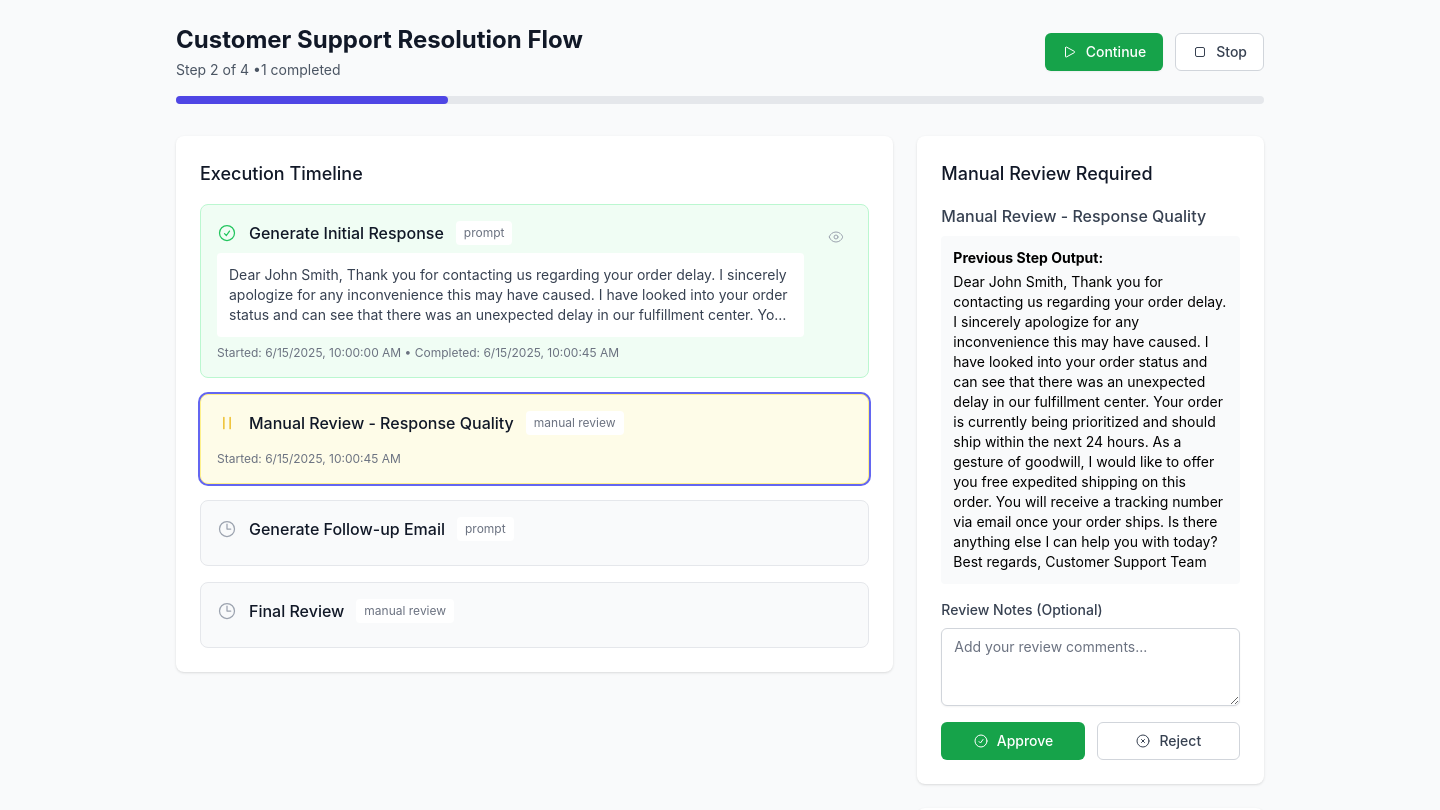
Test: PlaybookRunner › should handle pause execution
The image size is (1440, 810).
# First start execution
What coordinates should you click on to do the following:
click the button "Continue"
I would click on:
 (1104, 52)
Its box is [1045,33,1163,71].
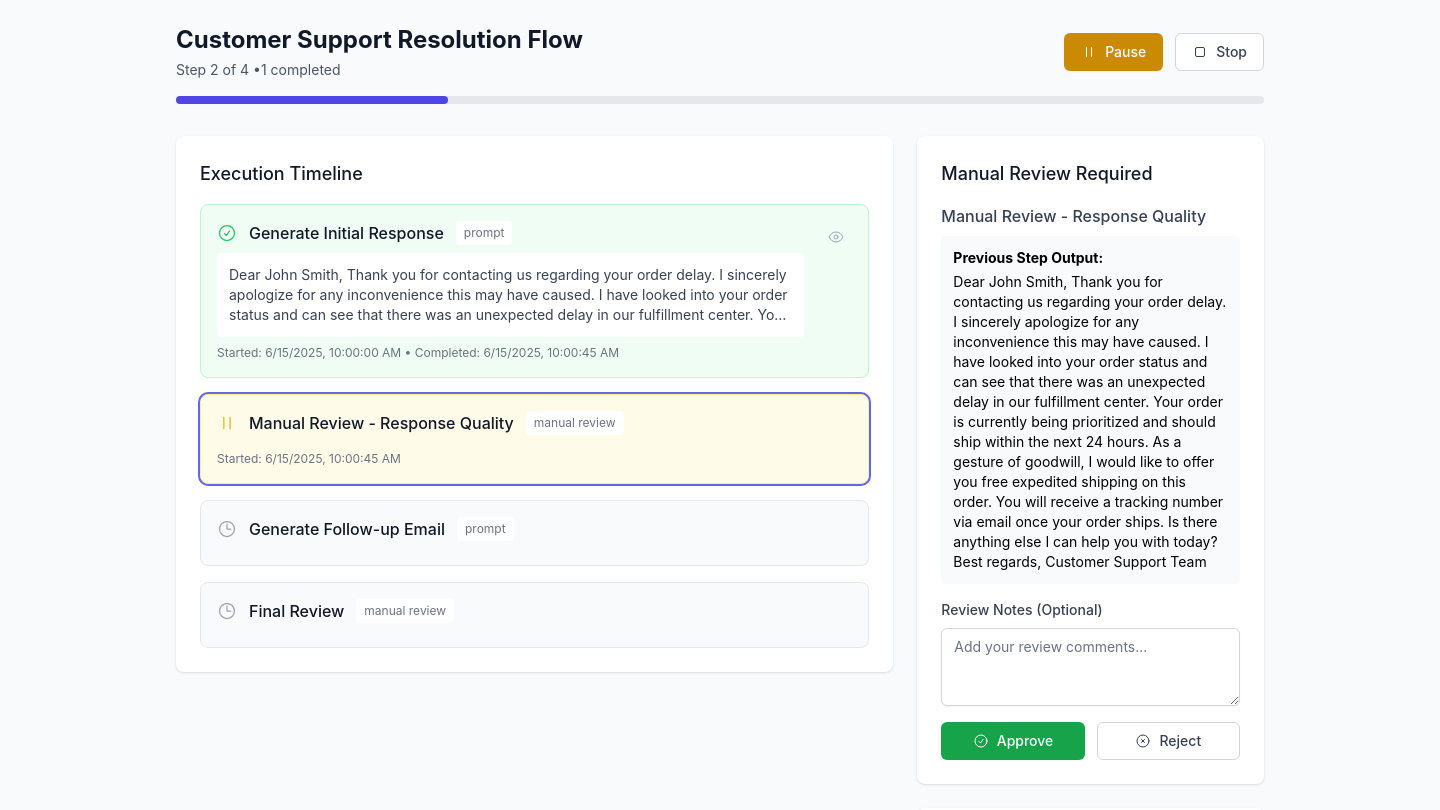
What coordinates should you click on to do the following:
click the button "Pause"
I would click on:
 (1114, 52)
Its box is [1064,33,1163,71].
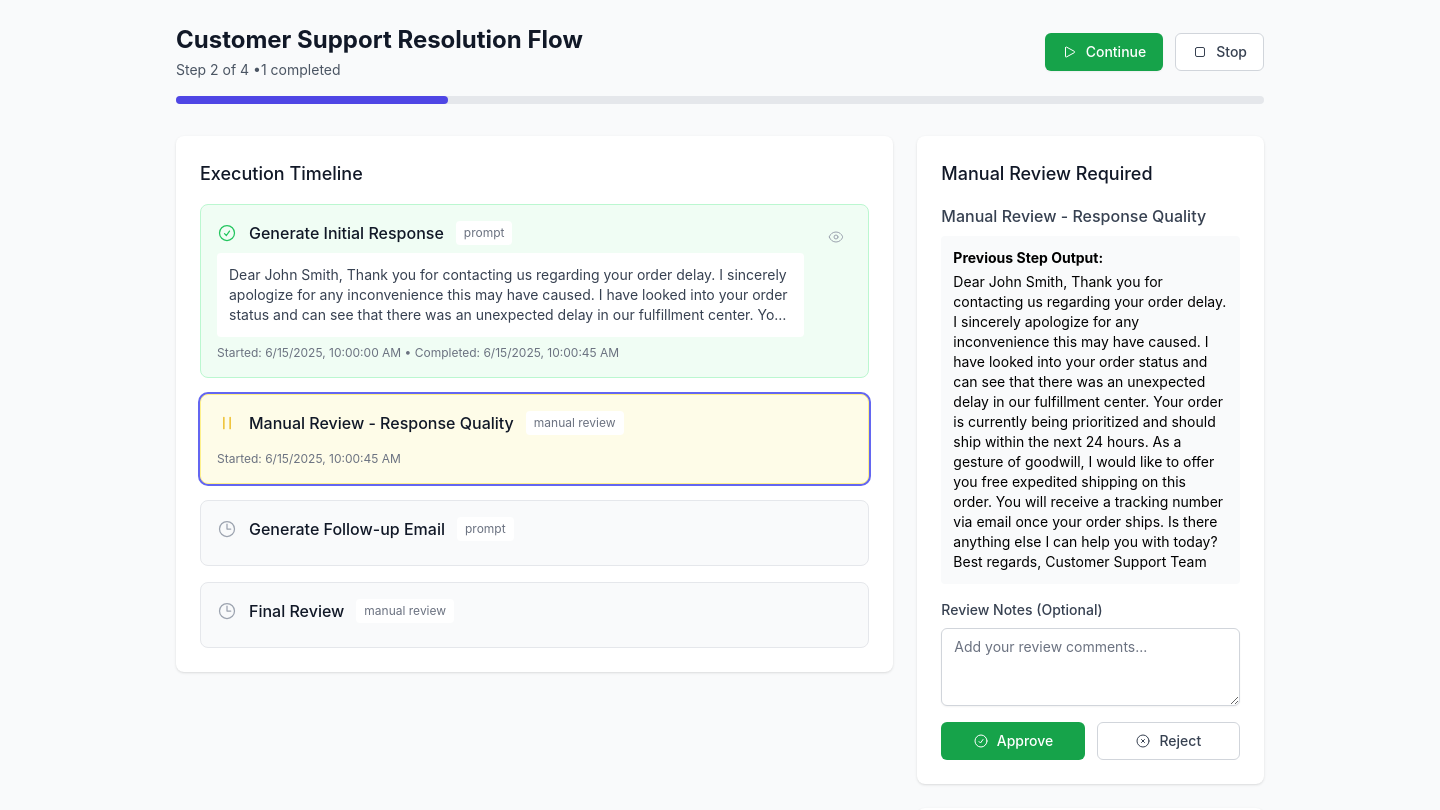
Now the button "Continue" is shown, box [1045,33,1163,71]
